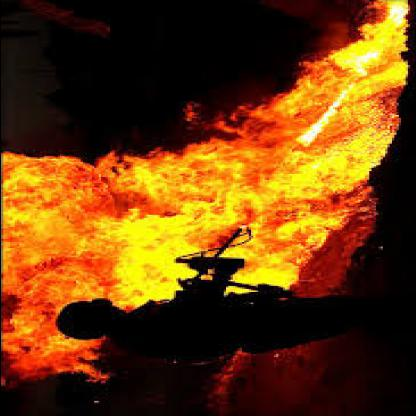Fire: (8, 171, 176, 293)
